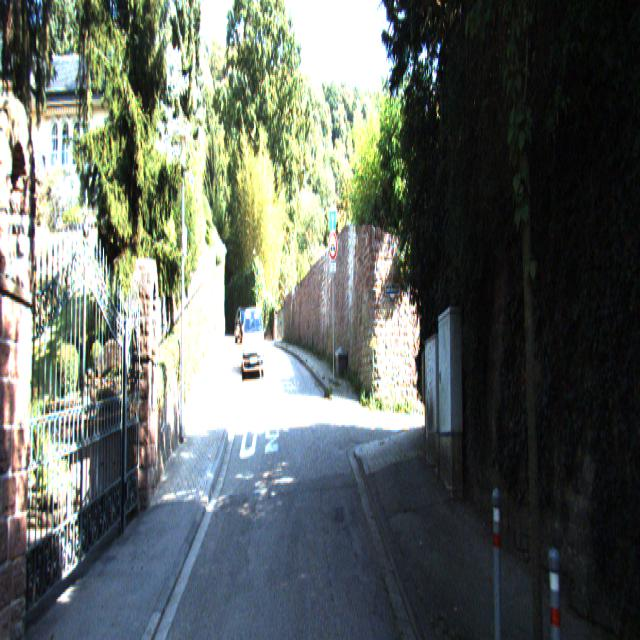Car: (242, 302, 265, 379), (235, 310, 254, 354)
